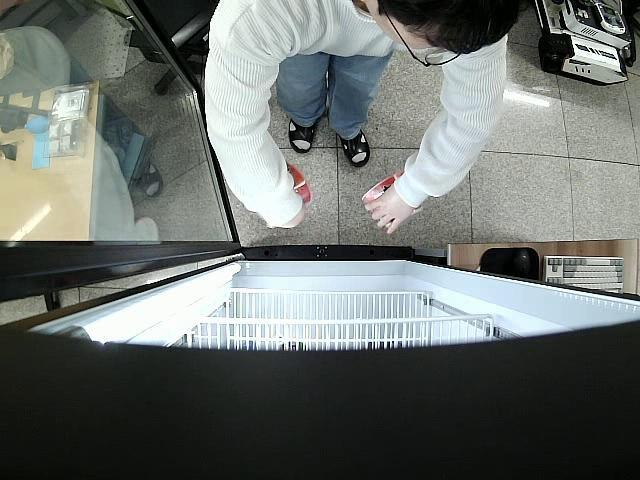01_ShinRamen_L: (361, 169, 405, 203)
